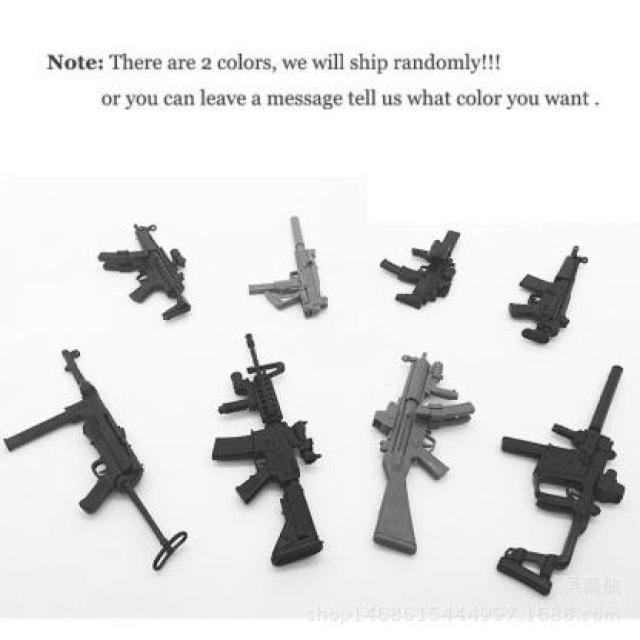weapon: (3, 344, 189, 573), (494, 364, 626, 598), (211, 332, 324, 569), (370, 352, 476, 557), (95, 223, 191, 322), (247, 216, 330, 322), (508, 241, 592, 345), (379, 228, 461, 311)
